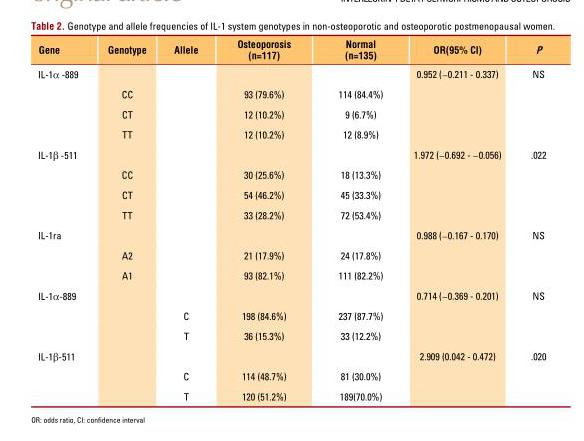table: (36, 37, 545, 402)
table column: (397, 37, 515, 402), (216, 37, 313, 402), (313, 37, 397, 402), (92, 37, 159, 402), (159, 37, 216, 402), (36, 37, 92, 402), (515, 37, 545, 402)
table column header: (36, 37, 545, 63)
table row: (36, 37, 545, 63), (36, 143, 545, 164), (36, 284, 545, 305), (36, 63, 545, 83), (36, 83, 545, 103), (36, 103, 545, 123), (36, 123, 545, 143), (36, 164, 545, 184), (36, 184, 545, 204), (36, 204, 545, 224), (36, 224, 545, 244), (36, 244, 545, 264), (36, 264, 545, 284), (36, 305, 545, 325), (36, 325, 545, 345), (36, 345, 545, 365), (36, 365, 545, 385), (36, 385, 545, 402)
table spanning cell: (36, 143, 92, 224), (36, 63, 92, 143), (36, 284, 92, 345), (36, 224, 92, 284), (36, 345, 92, 402)
